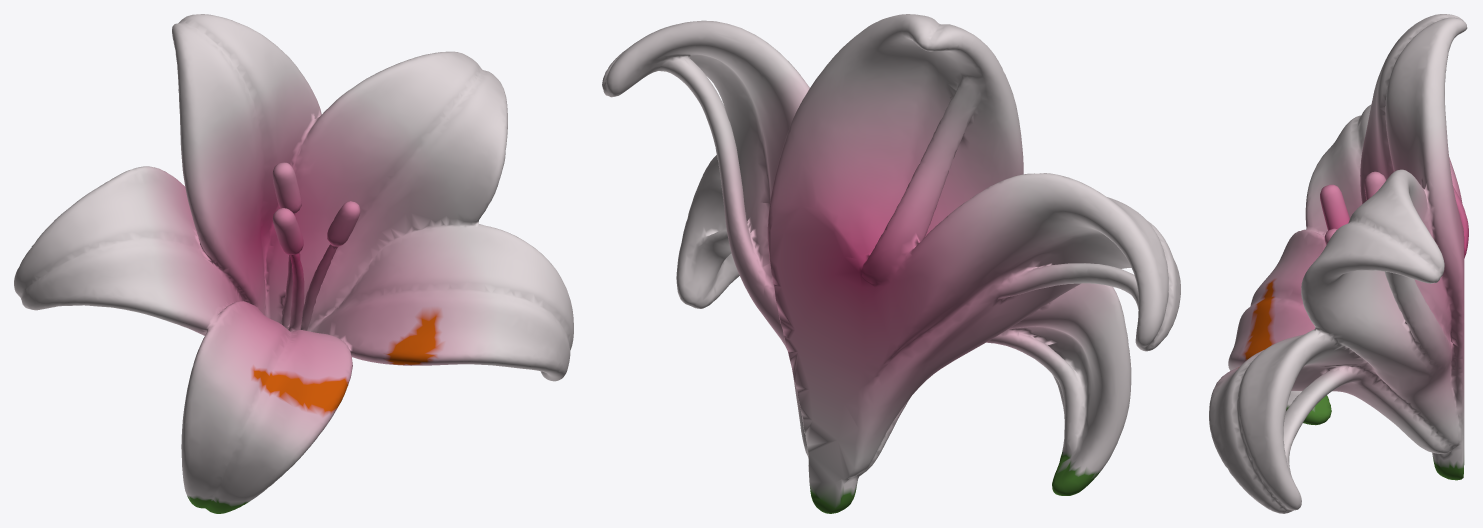
Rendered from lily.glb.
3 renders of one model, left to right at view 1: azimuth 30°, elevation 25°; view 2: azimuth 150°, elevation 25°; view 3: azimuth 270°, elevation 25°, orthographic. The views are drawn at different scales.
Parts seen in each view (by area): view 1: lily; view 2: lily; view 3: lily.
Part boxes in pixels (x1,y1,x2,y2): lily: (14,14,573,513); lily: (602,14,1180,513); lily: (1209,14,1468,513).
Size of the model in its own units: 1 by 0.8664 by 0.4742.
